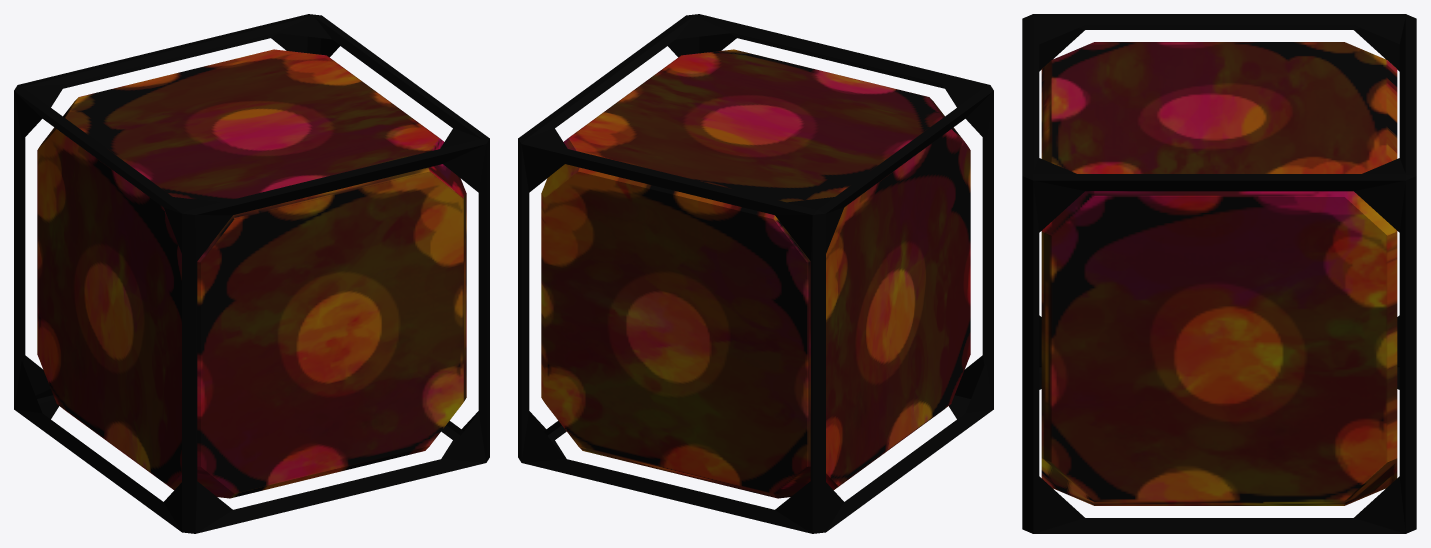
The model's file is CuboFrame.glb.
3 views of the same model, side by side, from view 1: azimuth 30°, elevation 25°; view 2: azimuth 150°, elevation 25°; view 3: azimuth 270°, elevation 25° (orthographic). The views are drawn at different scales.
Visible parts, largest first — view 1: Cube.002; view 2: Cube.002; view 3: Cube.002.
Part boxes in pixels (x1,y1,x2,y2): Cube.002: (14, 14, 489, 533); Cube.002: (518, 14, 993, 533); Cube.002: (1022, 14, 1416, 533).
Size of the model in its own units: 2.07 by 2.07 by 2.07.
Materials: 2 (1 with a texture image).
